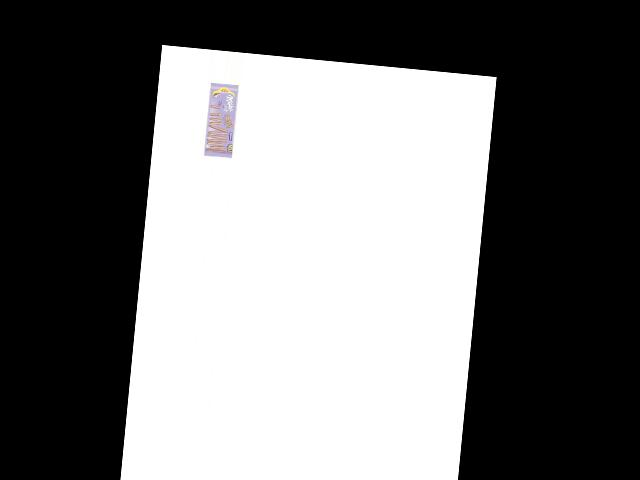chocolate: (199, 81, 239, 159)
